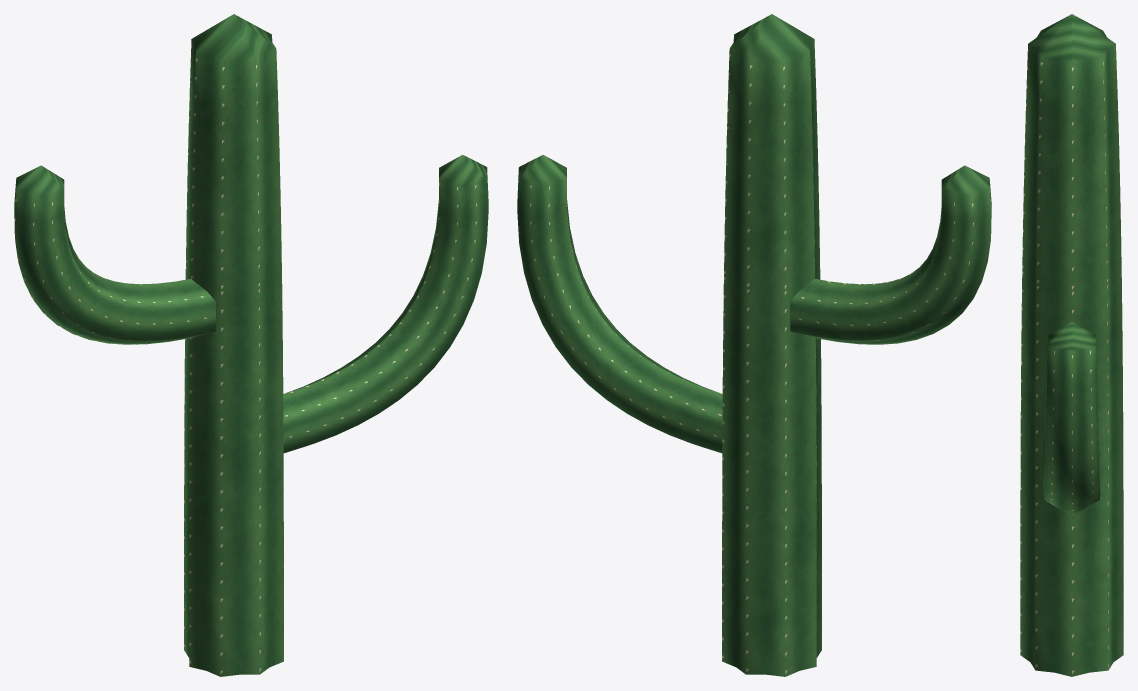
File: cactus_a.obj
3 renders of one model, left to right at view 1: azimuth 30°, elevation 25°; view 2: azimuth 150°, elevation 25°; view 3: azimuth 270°, elevation 25°, orthographic.
Parts seen in each view (by area): view 1: cactus_a; view 2: cactus_a; view 3: cactus_a.
Part boxes in pixels (box(x1,y1,x2,y2)): cactus_a: box(14, 14, 488, 676); cactus_a: box(517, 14, 991, 676); cactus_a: box(1020, 14, 1123, 676).
Bounding box in the file's own units: 2.15 × 2.78 × 0.4066.
1 material, 1 textured.
